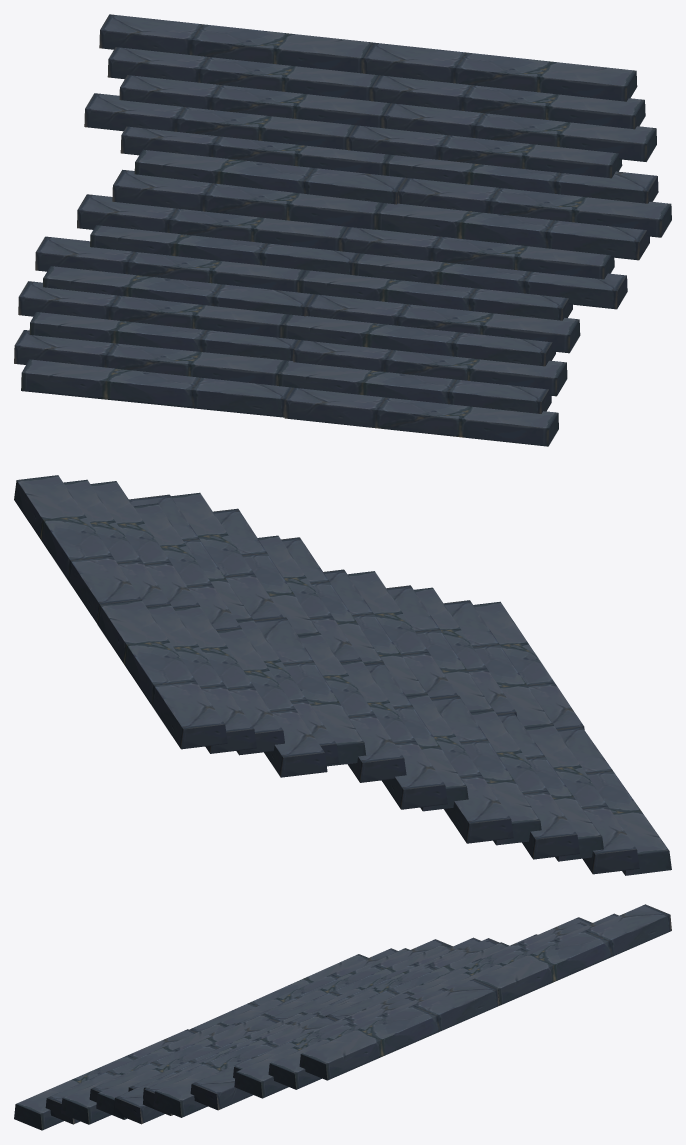
Rendered from Area_06_2.fbx.
The picture shows the model from 3 angles, top to bottom: view 1: azimuth 30°, elevation 25°; view 2: azimuth 150°, elevation 25°; view 3: azimuth 270°, elevation 25°; orthographic projection. The views are drawn at different scales.
Visible parts, largest first — view 1: Area_06_2; view 2: Area_06_2; view 3: Area_06_2.
Part boxes in pixels (left/top/right/bottom): Area_06_2: left=14, top=14, right=671, bottom=446; Area_06_2: left=14, top=475, right=671, bottom=875; Area_06_2: left=14, top=904, right=671, bottom=1130.
Bounding box in the file's own units: 2122 × 632 × 2219.
